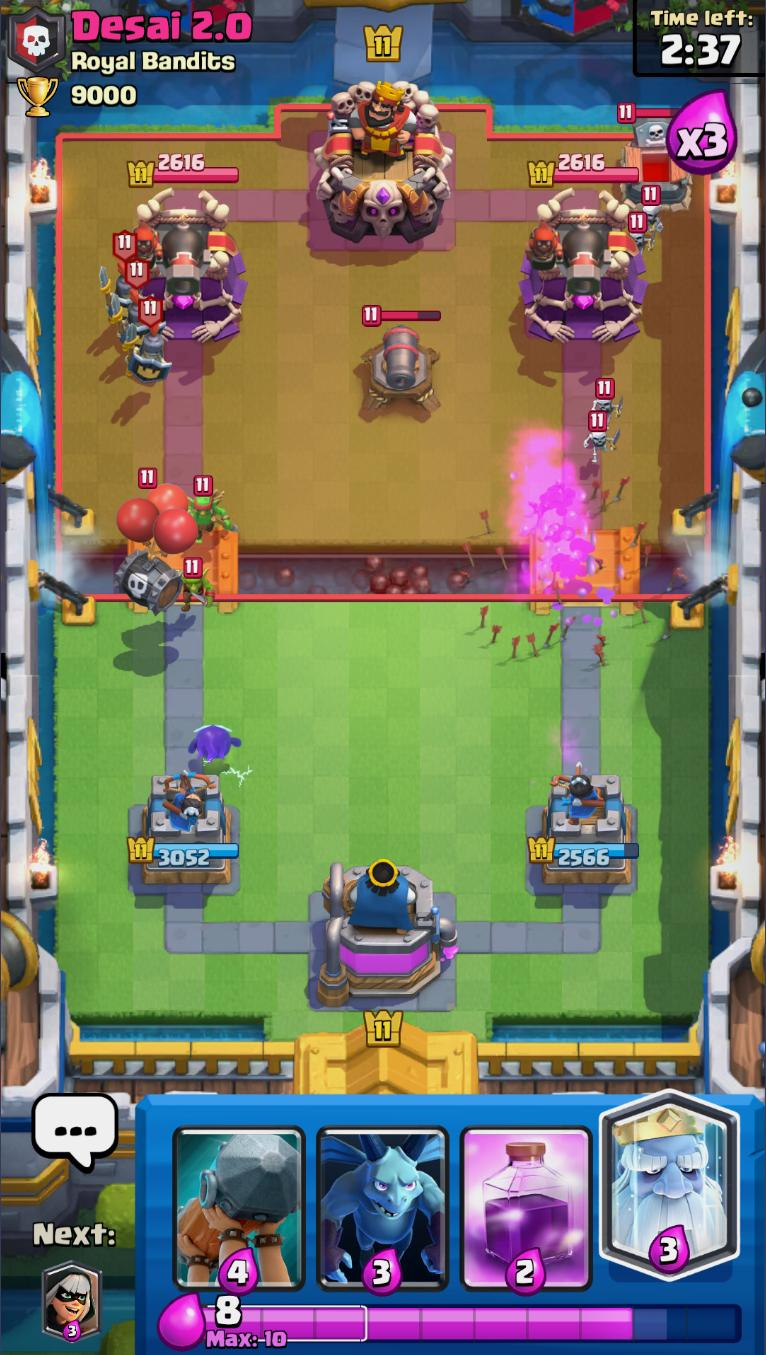Arrows: (461, 474, 650, 671)
BanditNext: (41, 1261, 101, 1346)
BattleRamDeck: (167, 1094, 313, 1294)
Cannon: (359, 303, 444, 419)
Cannoneer: (524, 214, 609, 300), (127, 216, 207, 300)
Elixir: (203, 1296, 743, 1346)
EnemyTower: (121, 187, 250, 343), (520, 189, 650, 343)
Goblin: (176, 557, 219, 623)
Guards: (124, 297, 173, 387), (99, 230, 139, 324), (119, 259, 154, 353)
KingTower: (314, 77, 456, 246)
MinionsDeck: (310, 1094, 456, 1299)
MyElectroSpirit: (187, 719, 243, 766)
MyKingTower: (319, 860, 457, 1011)
MyPrincessTower: (527, 774, 641, 890), (127, 776, 241, 890)
MyPrincessTowerHP: (127, 833, 241, 869), (526, 836, 641, 869)
RageDeck: (456, 1096, 597, 1293)
RoyaleGhostDeck: (596, 1096, 741, 1293)
Skeleton: (580, 413, 619, 464), (590, 377, 629, 423), (636, 186, 666, 239), (626, 213, 657, 264)
SkeletonBarrel: (109, 467, 196, 616)
SpearGoblin: (184, 474, 233, 549)
Tombstone: (616, 103, 694, 214)
TowerPrincessHP: (129, 153, 241, 189), (529, 153, 640, 189)
